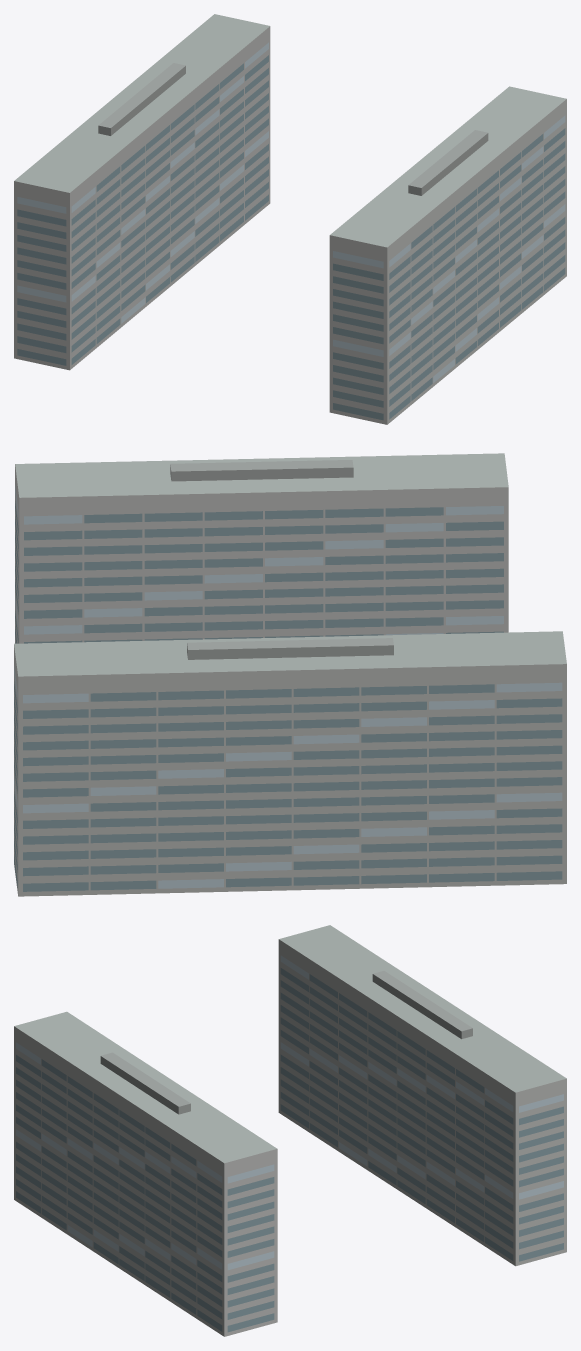
File: apt-a13511001.glb
The picture shows the model from 3 angles, top to bottom: view 1: azimuth 30°, elevation 25°; view 2: azimuth 150°, elevation 25°; view 3: azimuth 270°, elevation 25°; orthographic projection. The views are drawn at different scales.
Visible parts, largest first — view 1: apt-a13511001; view 2: apt-a13511001; view 3: apt-a13511001.
Part boxes in pixels (x1,y1,x2,y2): apt-a13511001: [14, 14, 566, 424]; apt-a13511001: [14, 453, 566, 896]; apt-a13511001: [14, 925, 566, 1336].
Bounding box in the file's own units: 126 × 44.62 × 123.
